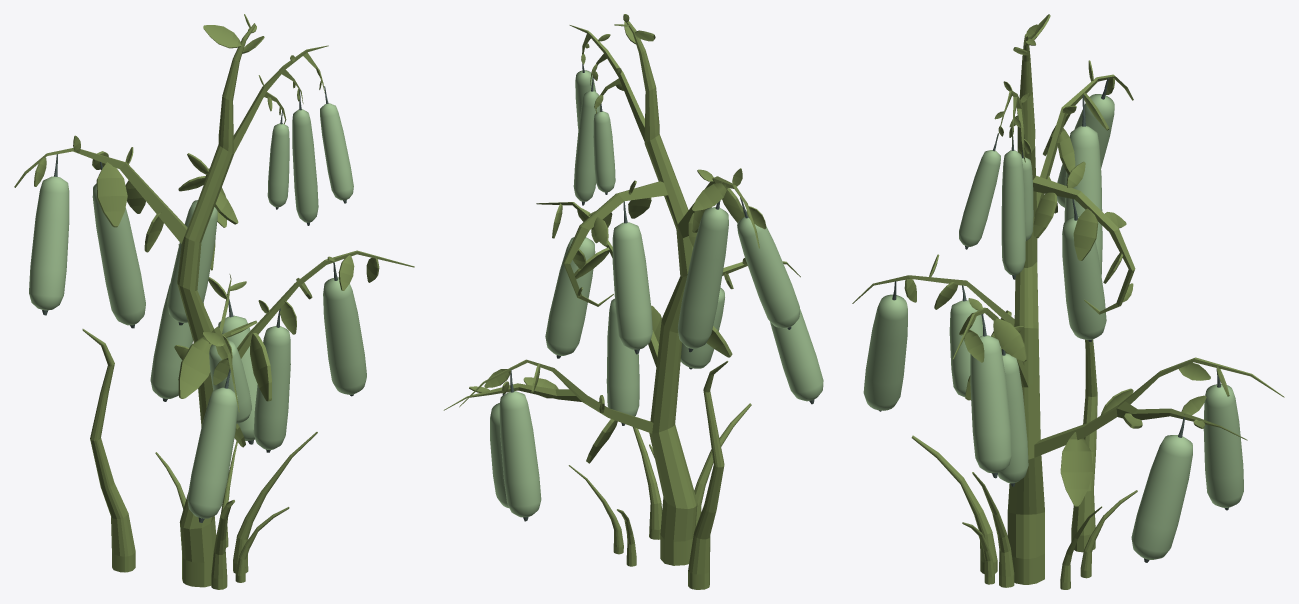
File: pizza_4fromages.fbx
3 renders of one model, left to right at view 1: azimuth 30°, elevation 25°; view 2: azimuth 150°, elevation 25°; view 3: azimuth 270°, elevation 25°, orthographic. The views are drawn at different scales.
Visible parts, largest first — view 1: pCube58, pSphere8, pSphere4, pSphere9, pSphere2, pSphere3, pSphere12, pSphere6, pSphere11, pSphere10, pSphere13, pSphere7 (+1 smaller); view 2: pCube58, pSphere9, pSphere10, pSphere6, pSphere8, pSphere2, pSphere4, pSphere3, pSphere12, pSphere13, pSphere7, pSphere5 (+1 smaller); view 3: pCube58, pSphere7, pSphere2, pSphere6, pSphere4, pSphere10, pSphere12, pSphere9, pSphere11, pSphere3, pSphere5, pSphere8 (+1 smaller).
Part boxes in pixels (bbox=[...]): pCube58: bbox=[14, 14, 414, 589]; pSphere8: bbox=[29, 154, 69, 315]; pSphere4: bbox=[187, 368, 238, 522]; pSphere9: bbox=[92, 162, 145, 328]; pSphere2: bbox=[323, 262, 366, 396]; pSphere3: bbox=[253, 308, 290, 452]; pSphere12: bbox=[292, 89, 318, 225]; pSphere6: bbox=[150, 283, 192, 401]; pSphere11: bbox=[320, 86, 353, 203]; pSphere10: bbox=[167, 200, 217, 325]; pSphere13: bbox=[267, 110, 289, 209]; pSphere7: bbox=[218, 294, 257, 444]; pCube58: bbox=[443, 14, 800, 589]; pSphere9: bbox=[677, 201, 728, 352]; pSphere10: bbox=[612, 201, 652, 354]; pSphere6: bbox=[499, 369, 541, 521]; pSphere8: bbox=[737, 197, 799, 329]; pSphere2: bbox=[545, 237, 595, 358]; pSphere4: bbox=[770, 309, 823, 404]; pSphere3: bbox=[606, 298, 639, 425]; pSphere12: bbox=[573, 77, 600, 205]; pSphere13: bbox=[593, 104, 615, 194]; pSphere7: bbox=[490, 393, 508, 507]; pSphere5: bbox=[680, 287, 724, 369]; pCube58: bbox=[852, 14, 1284, 589]; pSphere7: bbox=[1131, 414, 1192, 562]; pSphere2: bbox=[970, 314, 1011, 478]; pSphere6: bbox=[1203, 369, 1243, 510]; pSphere4: bbox=[863, 281, 907, 411]; pSphere10: bbox=[1062, 199, 1106, 341]; pSphere12: bbox=[1001, 128, 1025, 279]; pSphere9: bbox=[1064, 95, 1102, 275]; pSphere11: bbox=[959, 133, 1000, 249]; pSphere3: bbox=[997, 349, 1028, 486]; pSphere5: bbox=[949, 285, 982, 400]; pSphere8: bbox=[1057, 78, 1114, 207].
Size of the model in its own units: 19.67 by 31.72 by 21.52.
